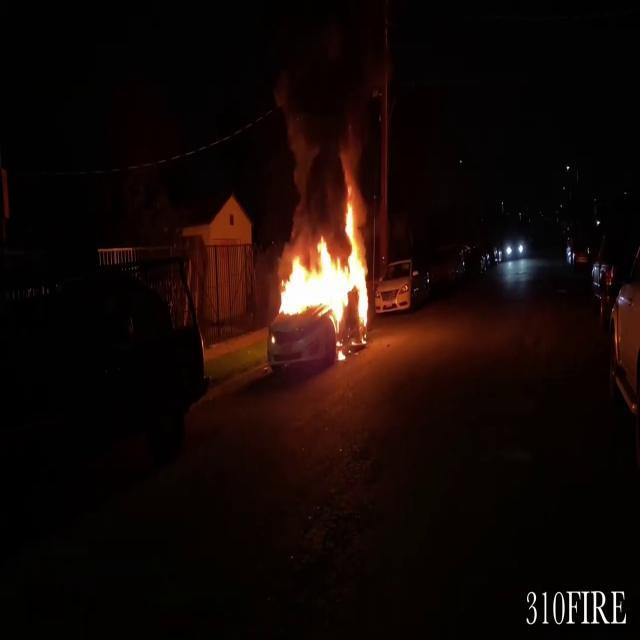Fire: (274, 198, 376, 348)
Smoke: (271, 1, 388, 203)
